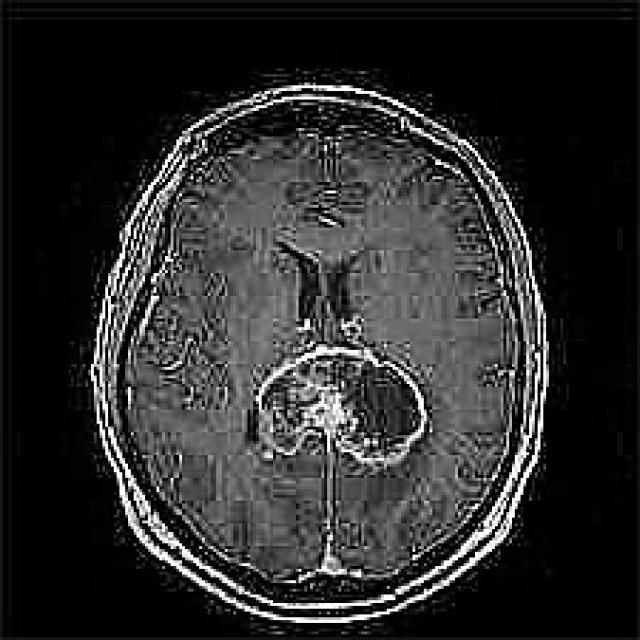Tumor-Cell: (230, 352, 454, 478)
